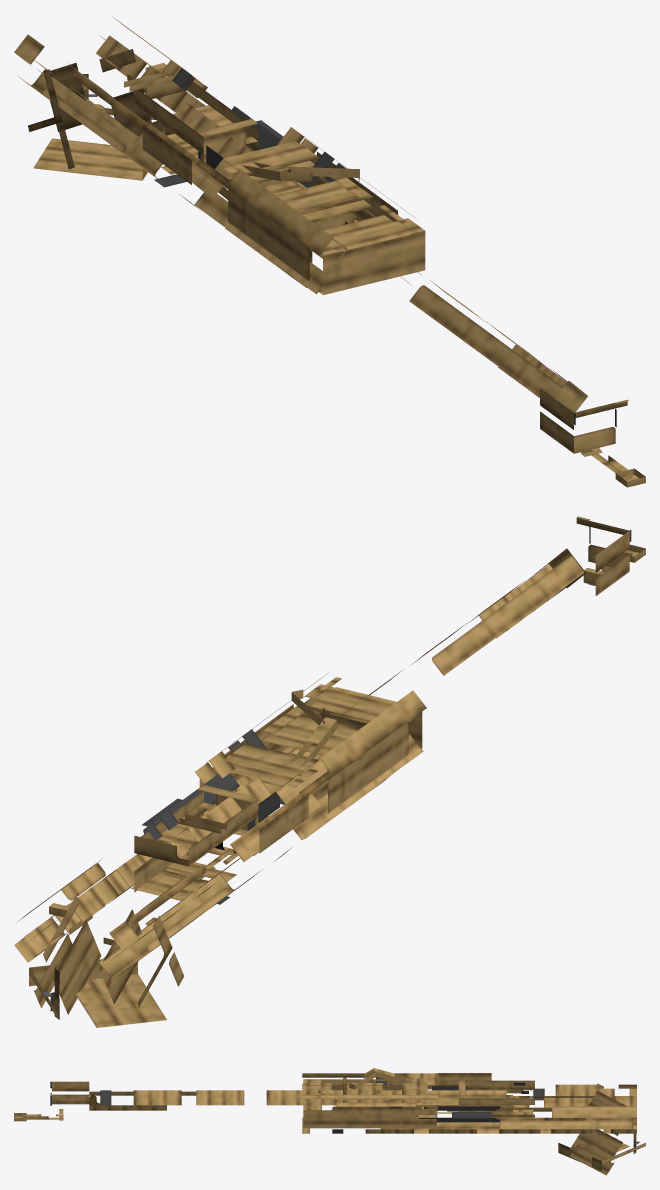
File: m777_turret.obj
3 renders of one model, top to bottom at view 1: azimuth 30°, elevation 25°; view 2: azimuth 150°, elevation 25°; view 3: azimuth 270°, elevation 25°, orthographic. The views are drawn at different scales.
Visible parts, largest first — view 1: gun, turret; view 2: gun, turret; view 3: gun, turret.
Boxes of the visible parts, x1=… form: gun: x1=14, y1=16, x2=645, y2=487; turret: x1=28, y1=49, x2=175, y2=180; gun: x1=14, y1=516, x2=645, y2=981; turret: x1=29, y1=895, x2=184, y2=1027; gun: x1=14, y1=1068, x2=636, y2=1133; turret: x1=558, y1=1083, x2=645, y2=1175.
Size of the model in its own units: 1.48 by 1.64 by 10.67.
